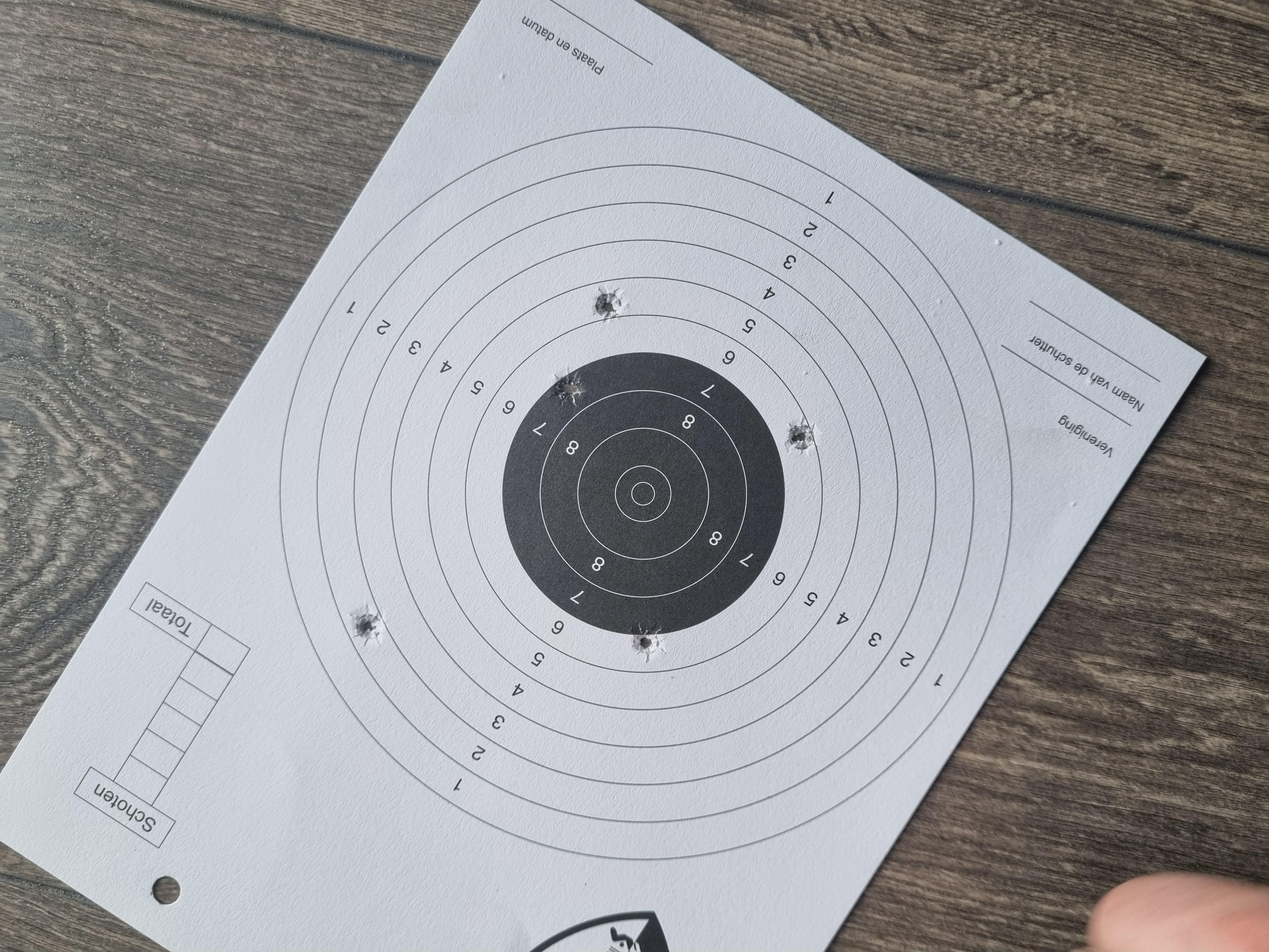hole: (408, 263, 463, 286), (386, 474, 436, 499), (728, 414, 780, 438), (669, 590, 714, 613), (840, 446, 886, 467)
